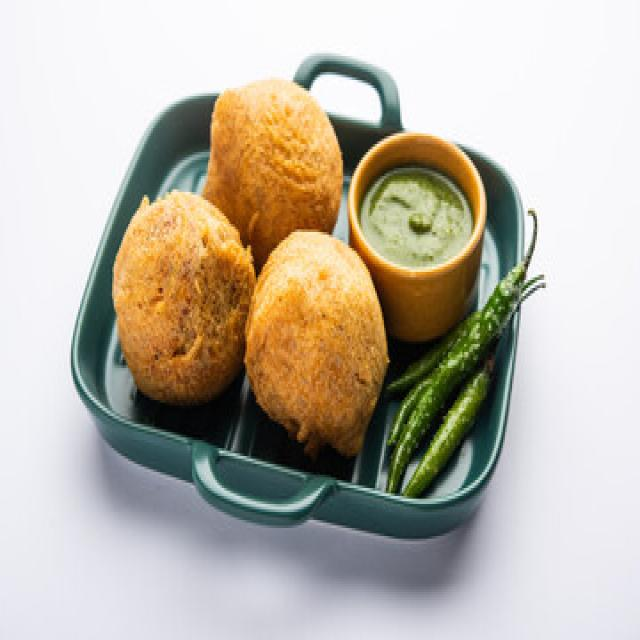BONDA: (112, 80, 388, 453)
GREEN CHUTNEY: (361, 165, 471, 264)
